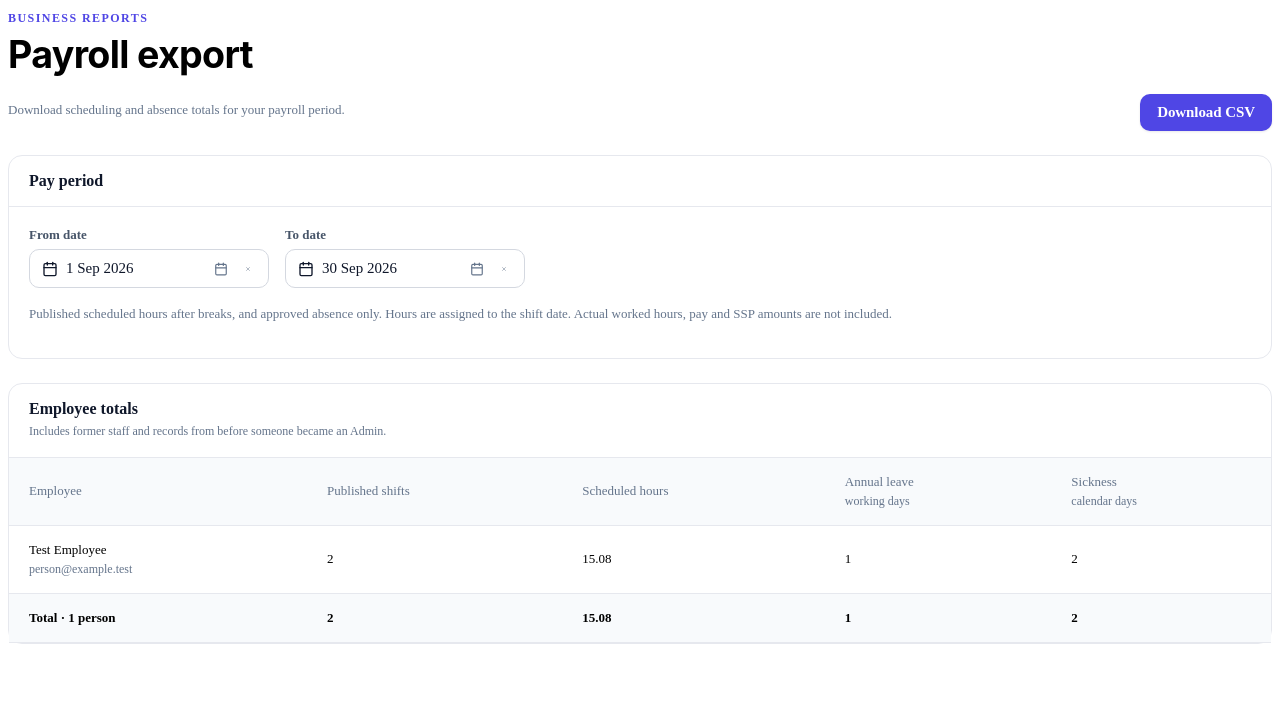
Test: does not download empty data if the records disappeared after preview
Expected: the text "Test Employee" is shown, [29, 542, 106, 557]
Click the button "Download CSV".
click(1206, 113)  # box [1140, 94, 1272, 131]
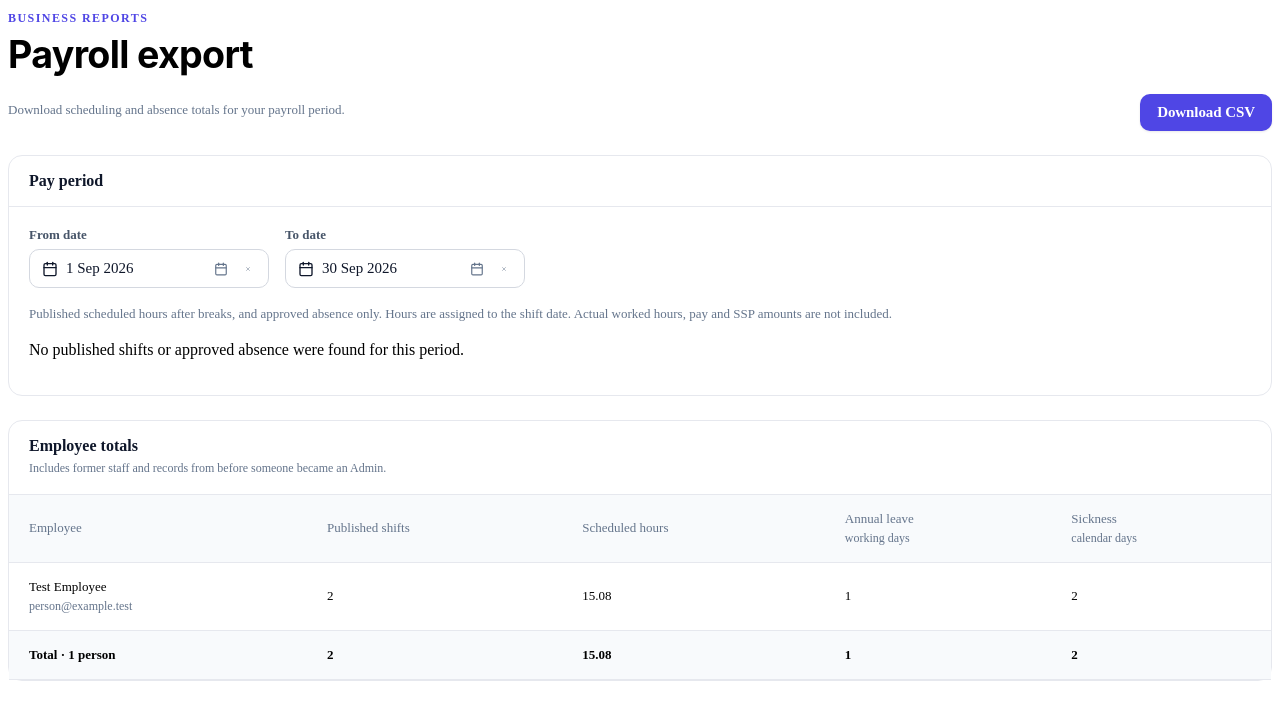
Result: the text "No published shifts or approved absence were found for this period." is shown at [29, 341, 464, 358]
